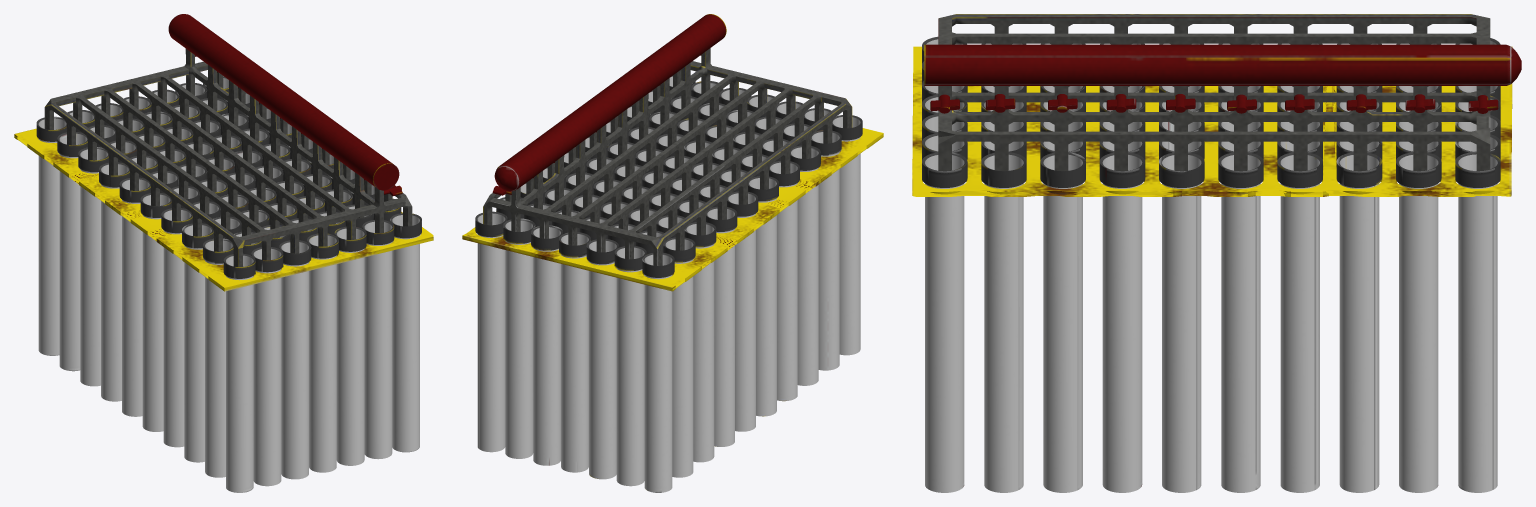
File: uf_small.glb
3 views of the same model, side by side, from view 1: azimuth 30°, elevation 25°; view 2: azimuth 150°, elevation 25°; view 3: azimuth 270°, elevation 25° (orthographic). The views are drawn at different scales.
Parts seen in each view (by area): view 1: Cylinder.001; view 2: Cylinder.001; view 3: Cylinder.001.
Boxes of the visible parts, bbox=[...] form: Cylinder.001: bbox=[14, 14, 433, 492]; Cylinder.001: bbox=[462, 14, 883, 492]; Cylinder.001: bbox=[912, 14, 1521, 492].
Bounding box in the file's own units: 2.45 × 3.28 × 4.32.
Materials: 1 (1 with a texture image).
